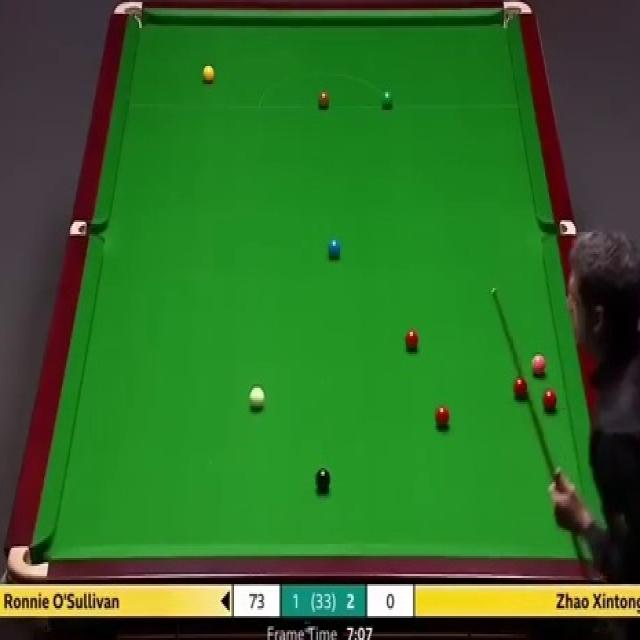pocket: (5, 544, 49, 582), (112, 0, 145, 32), (501, 2, 530, 30), (65, 218, 104, 237), (541, 220, 575, 237)
